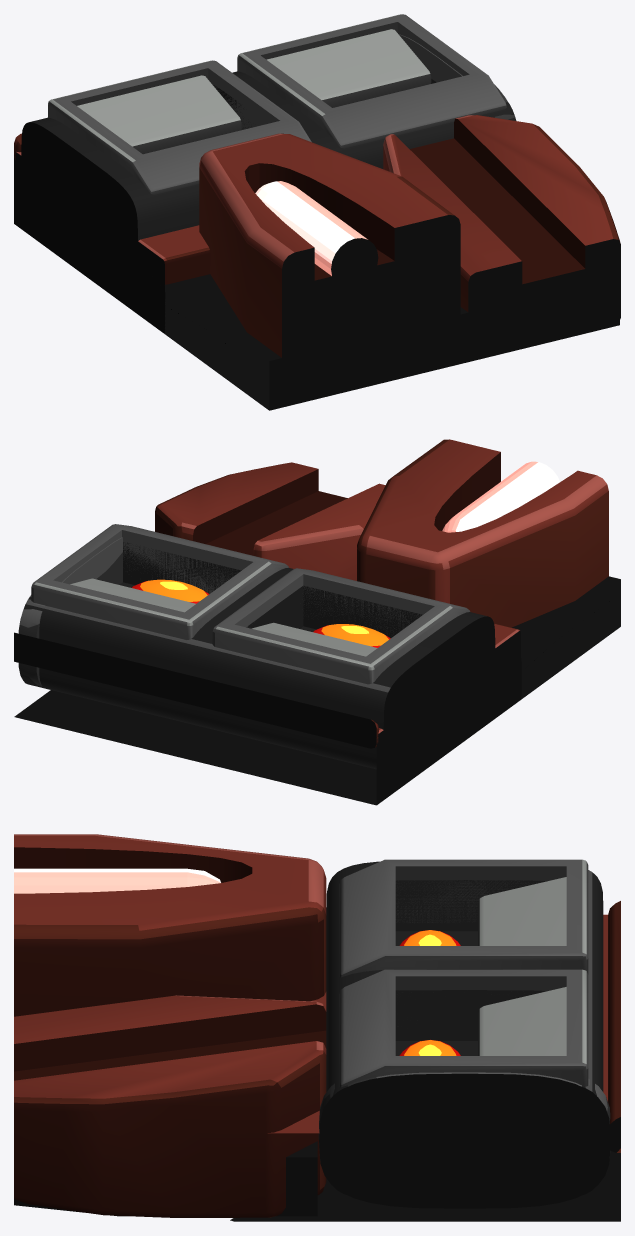
Rendered from savara_boss_281.glb.
3 renders of one model, top to bottom at view 1: azimuth 30°, elevation 25°; view 2: azimuth 150°, elevation 25°; view 3: azimuth 270°, elevation 25°, orthographic. The views are drawn at different scales.
Parts seen in each view (by area): view 1: savara_boss_281; view 2: savara_boss_281; view 3: savara_boss_281.
Part boxes in pixels (left/top/right/bottom): savara_boss_281: left=14, top=14, right=620, bottom=410; savara_boss_281: left=14, top=439, right=620, bottom=805; savara_boss_281: left=14, top=834, right=620, bottom=1221.
Size of the model in its own units: 24 by 9.2 by 28.
